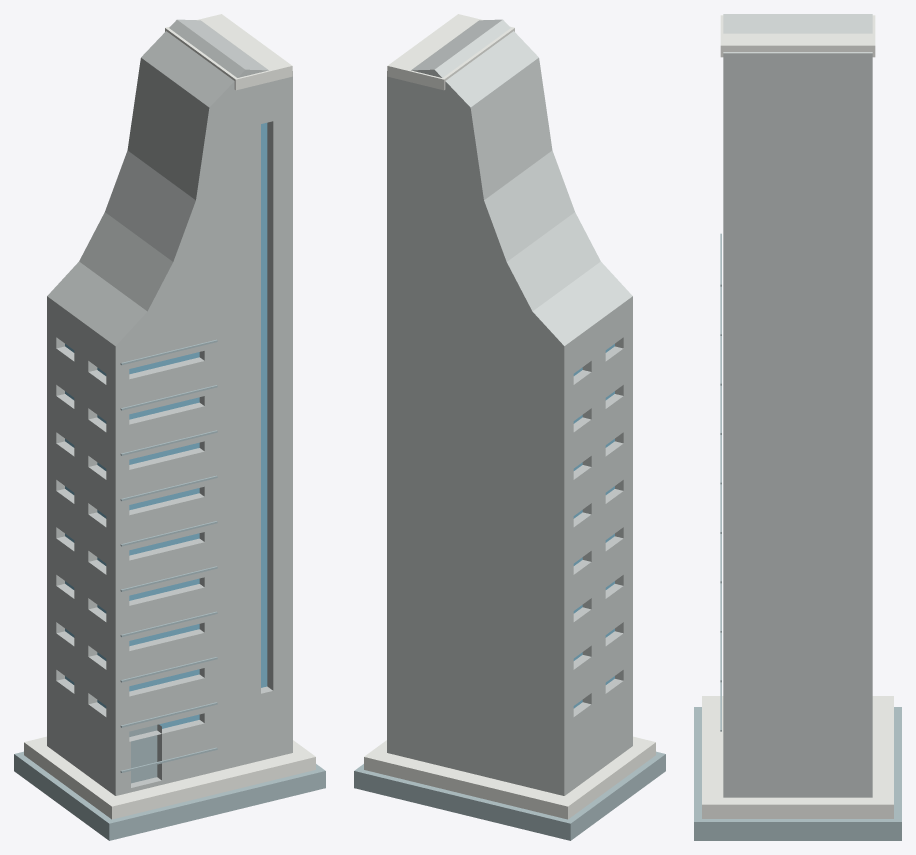
File: 01_stepped_tower.glb
The picture shows the model from 3 angles, left to right: view 1: azimuth 30°, elevation 25°; view 2: azimuth 150°, elevation 25°; view 3: azimuth 270°, elevation 25°; orthographic projection. The views are drawn at different scales.
Visible parts, largest first — view 1: asymmetric_tower_shell, plinth, foundation, window_reveal_geometry, inset_glass, roof_cap, inset_backing; view 2: asymmetric_tower_shell, plinth, foundation, roof_cap; view 3: asymmetric_tower_shell, plinth, foundation, roof_cap.
Boxes of the visible parts, left/top/right/bottom form: asymmetric_tower_shell: left=47, top=19, right=292, bottom=795; plinth: left=24, top=736, right=315, bottom=819; foundation: left=14, top=751, right=325, bottom=840; window_reveal_geometry: left=267, top=121, right=273, bottom=690; inset_glass: left=261, top=122, right=267, bottom=687; roof_cap: left=165, top=14, right=292, bottom=90; inset_backing: left=129, top=725, right=157, bottom=783; asymmetric_tower_shell: left=387, top=19, right=632, bottom=795; plinth: left=364, top=736, right=655, bottom=819; foundation: left=354, top=751, right=665, bottom=840; roof_cap: left=387, top=14, right=514, bottom=90; asymmetric_tower_shell: left=723, top=14, right=872, bottom=797; plinth: left=702, top=696, right=893, bottom=818; foundation: left=694, top=707, right=901, bottom=840; roof_cap: left=720, top=15, right=875, bottom=57.
Size of the model in its own units: 2.1 by 6.72 by 1.6.
